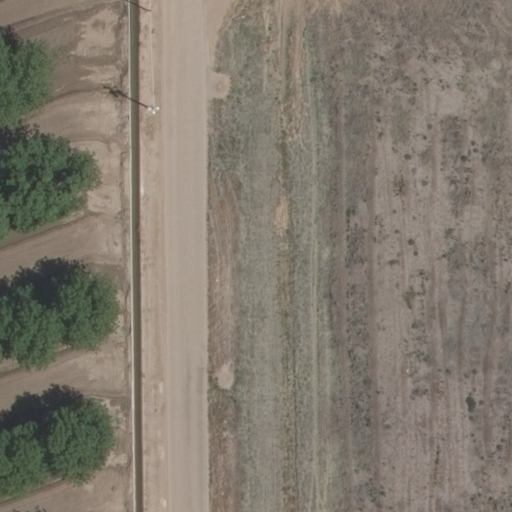DT: (136, 99, 162, 117)
